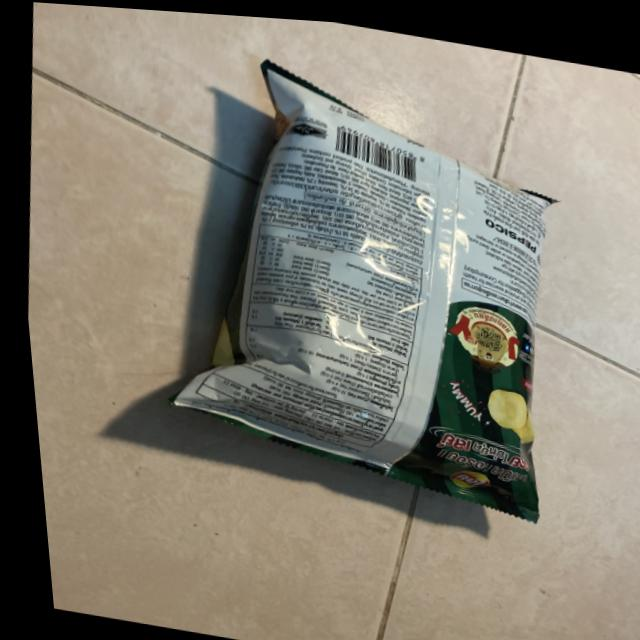Laygreen: (102, 25, 599, 564)
